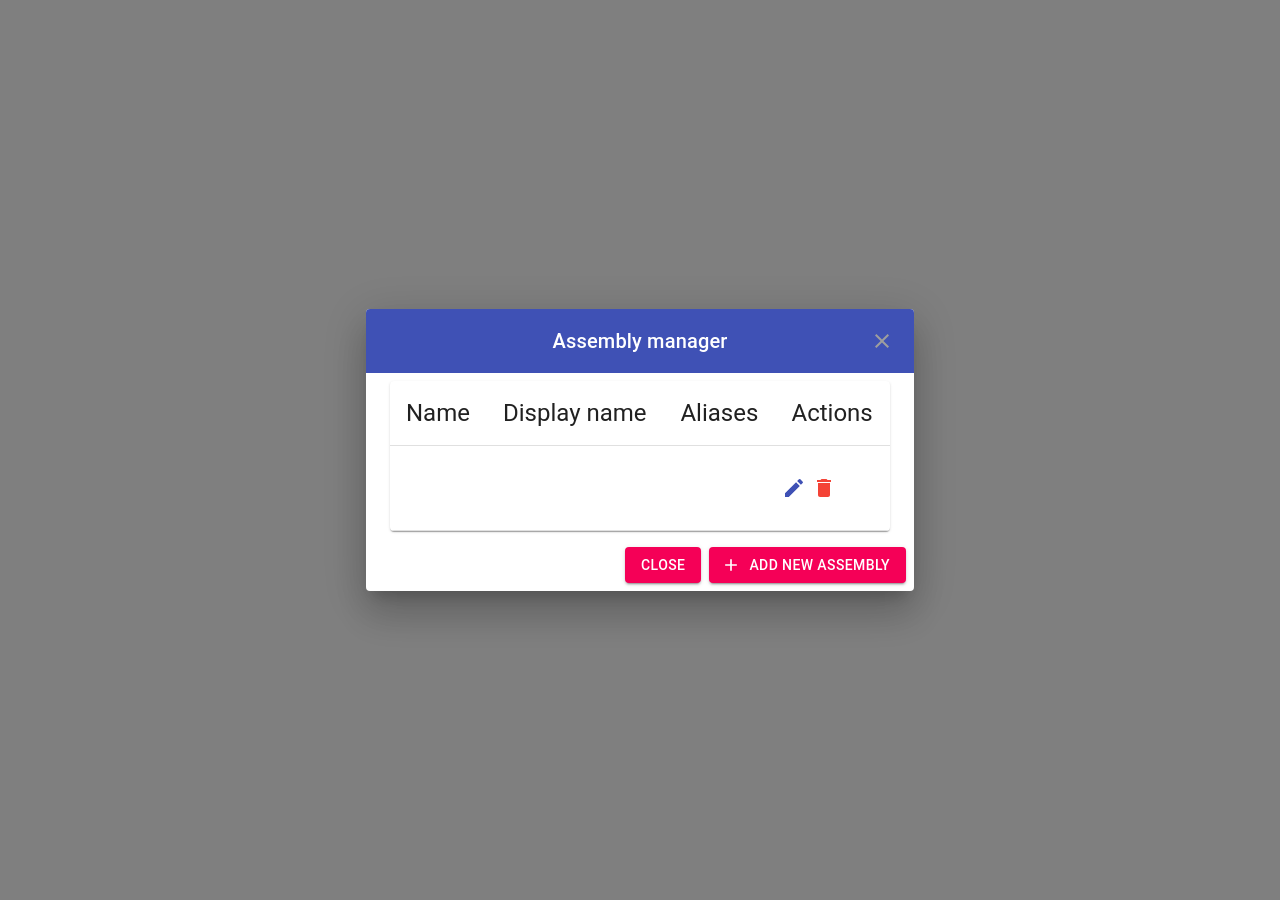
it: AssemblyManager GUI › opens up the Add Assembly Form when clicked
Click the button "Add new assembly".
click(808, 565)  # box [709,547,906,583]
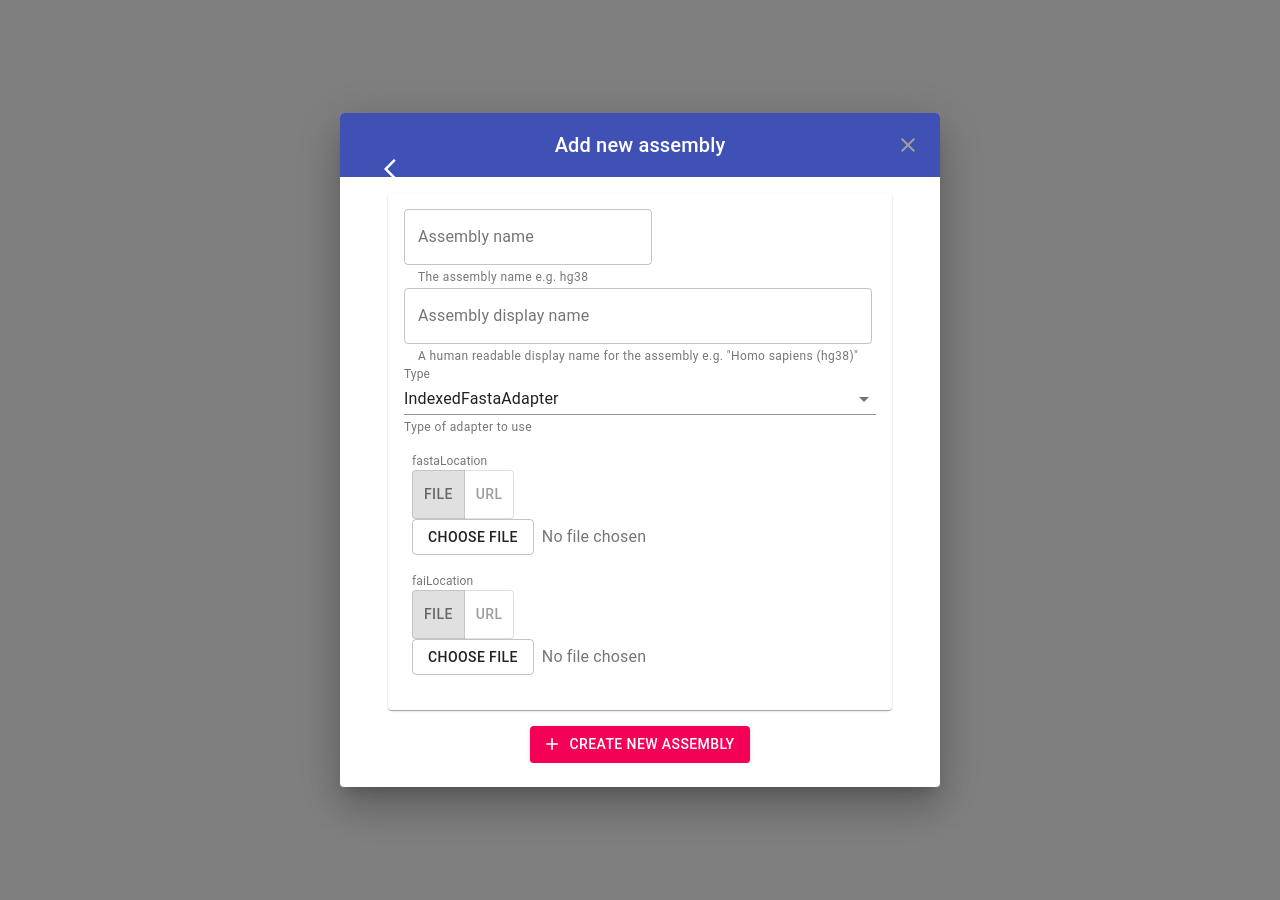
Result: the text "Create new assembly" is shown at [546,732,734,757]
